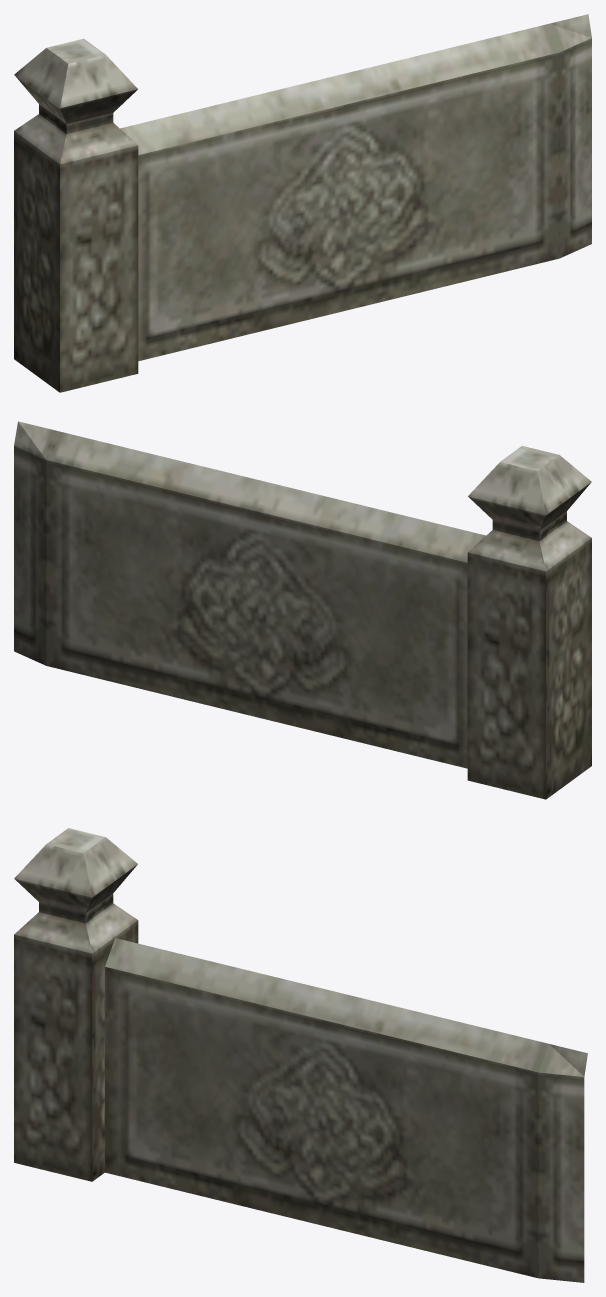
The model's file is secret_fence_01.glb.
3 views of the same model, one above another, from view 1: azimuth 30°, elevation 25°; view 2: azimuth 150°, elevation 25°; view 3: azimuth 330°, elevation 25° (orthographic).
Parts seen in each view (by area): view 1: secret_fence_01; view 2: secret_fence_01; view 3: secret_fence_01.
Boxes of the visible parts, box(x1,y1,x2,y2) form: secret_fence_01: box(14, 14, 591, 392); secret_fence_01: box(14, 421, 591, 799); secret_fence_01: box(14, 828, 587, 1282).
Bounding box in the file's own units: 2.15 × 1.18 × 0.3111.
1 material, 1 textured.
